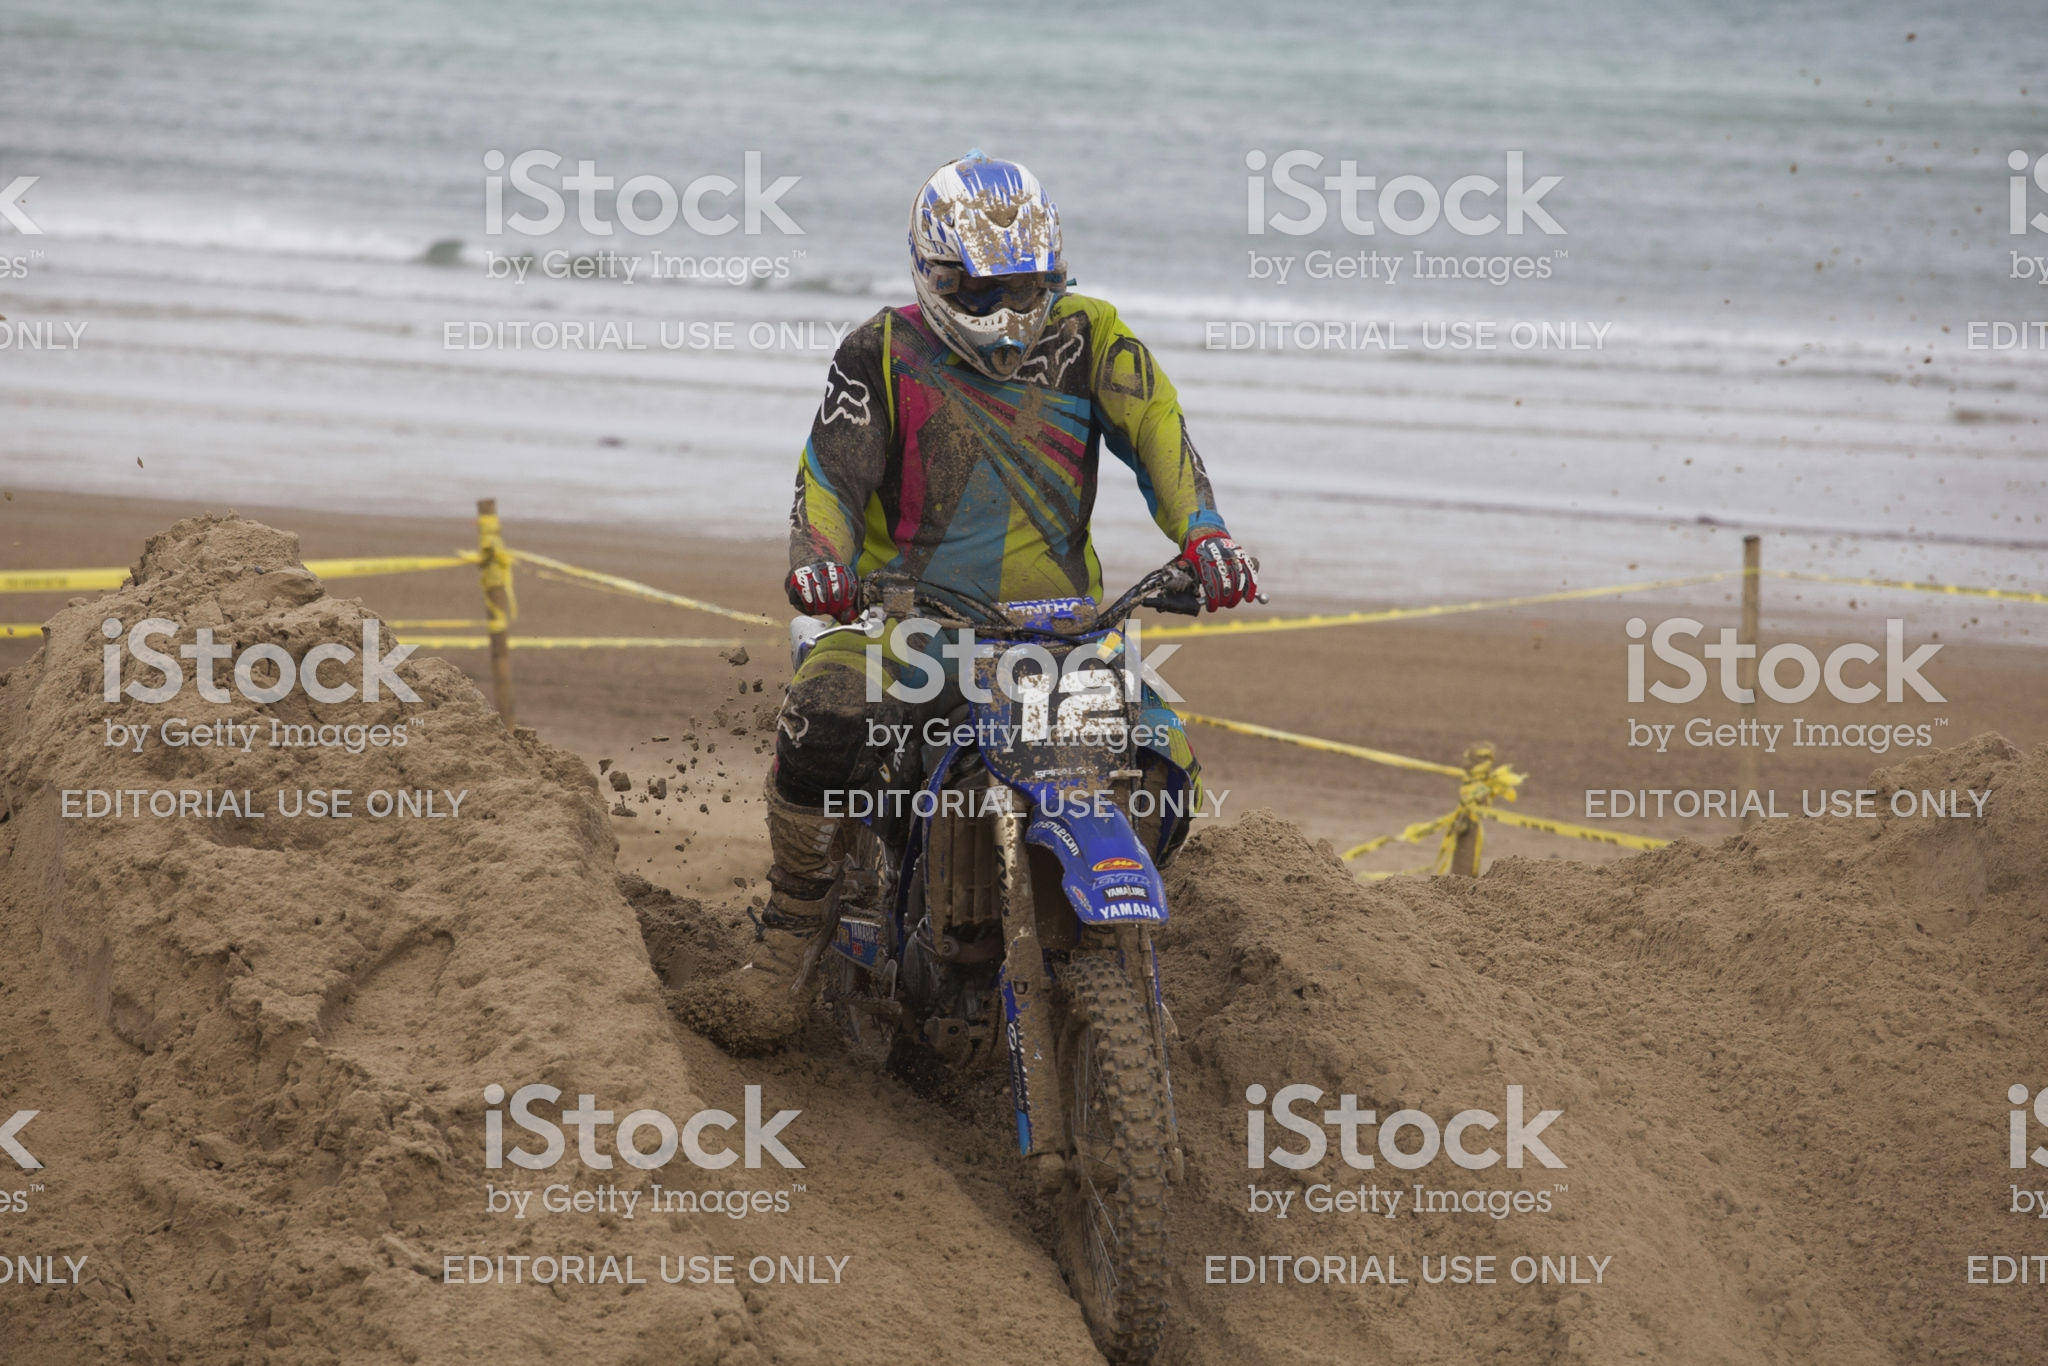helmet: (902, 156, 1083, 383)
